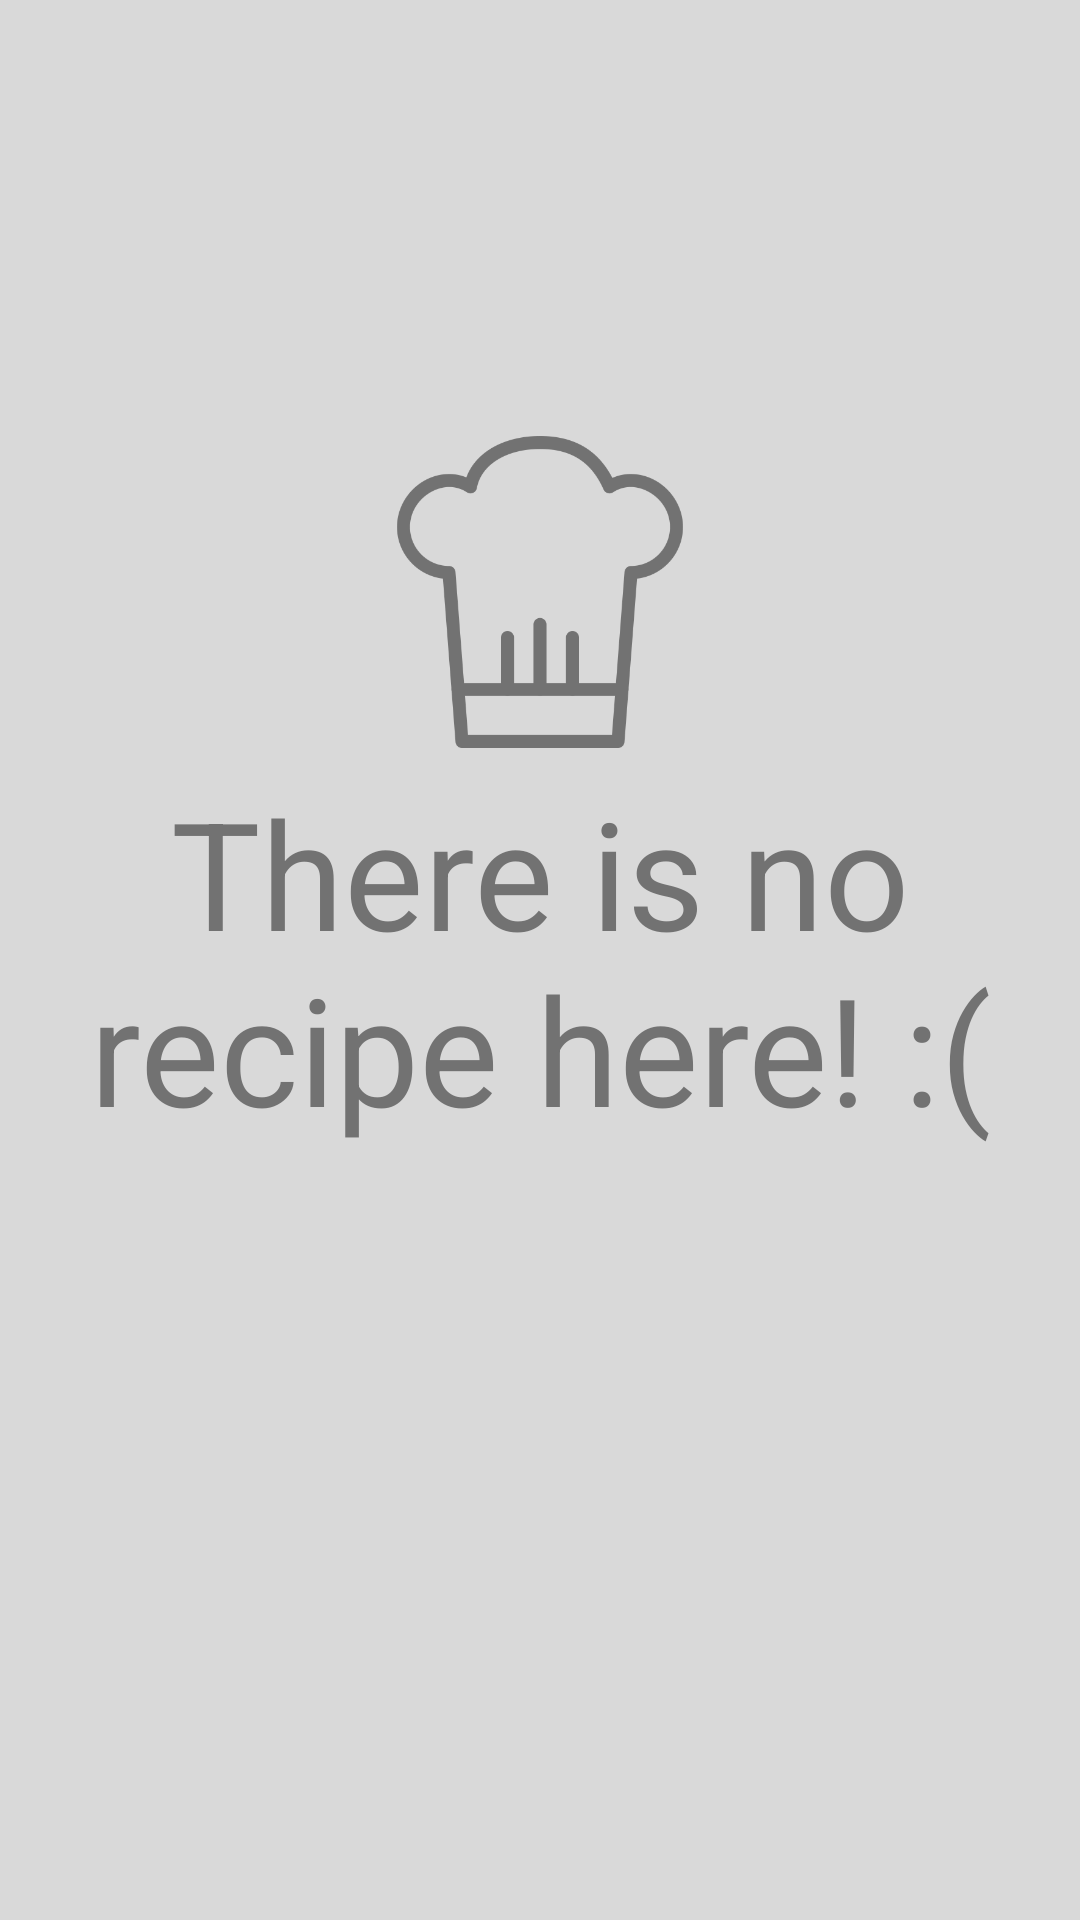

Icon click points for this 1080*1920 phone screenshot, format (x=x, y=y):
chef: (x=540, y=592)
